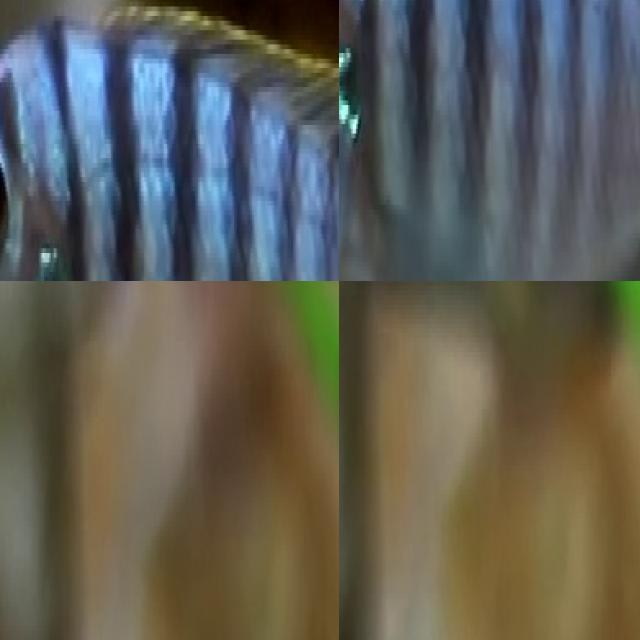fish: (0, 1, 339, 281), (339, 0, 640, 281)
